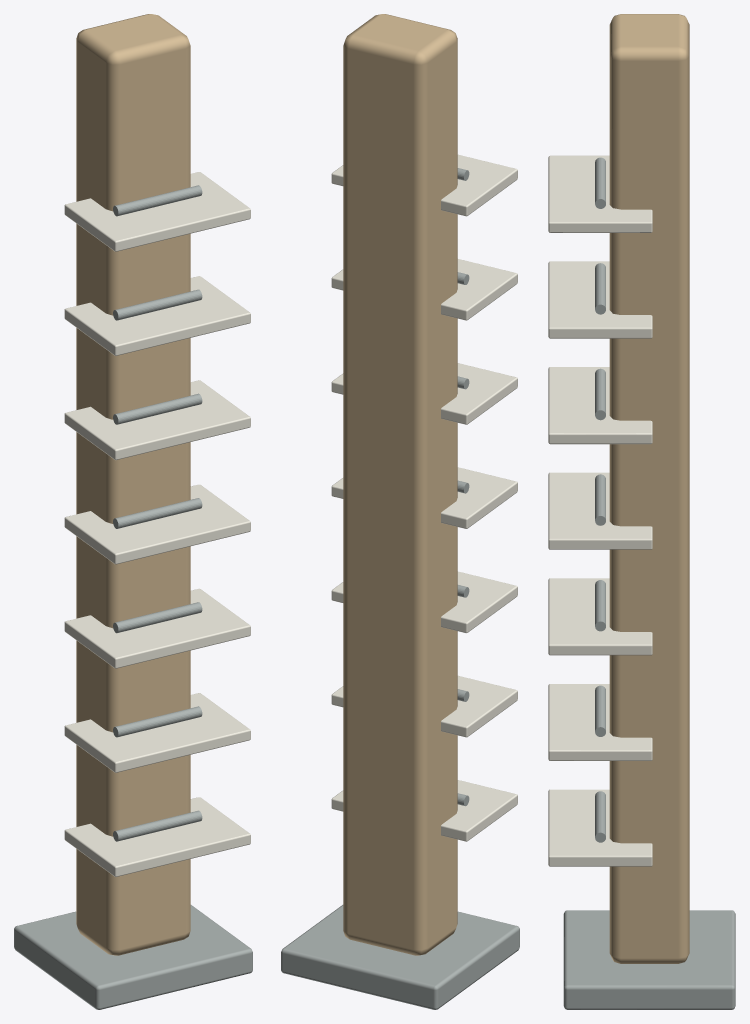
File: optician-and-optical-lens-workshop-optician-and-optica-64b5012e__31684.glb
The picture shows the model from 3 angles, left to right: view 1: azimuth 30°, elevation 25°; view 2: azimuth 150°, elevation 25°; view 3: azimuth 270°, elevation 25°; orthographic projection.
Visible parts, largest first — view 1: optician-and-optical-lens-workshop-frame-display-column; view 2: optician-and-optical-lens-workshop-frame-display-column; view 3: optician-and-optical-lens-workshop-frame-display-column.
Part boxes in pixels (x1=…): optician-and-optical-lens-workshop-frame-display-column: x1=14, y1=14, x2=252, y2=1009; optician-and-optical-lens-workshop-frame-display-column: x1=281, y1=14, x2=519, y2=1009; optician-and-optical-lens-workshop-frame-display-column: x1=548, y1=14, x2=735, y2=1009.
Bounding box in the file's own units: 0.3 × 1.69 × 0.305.
